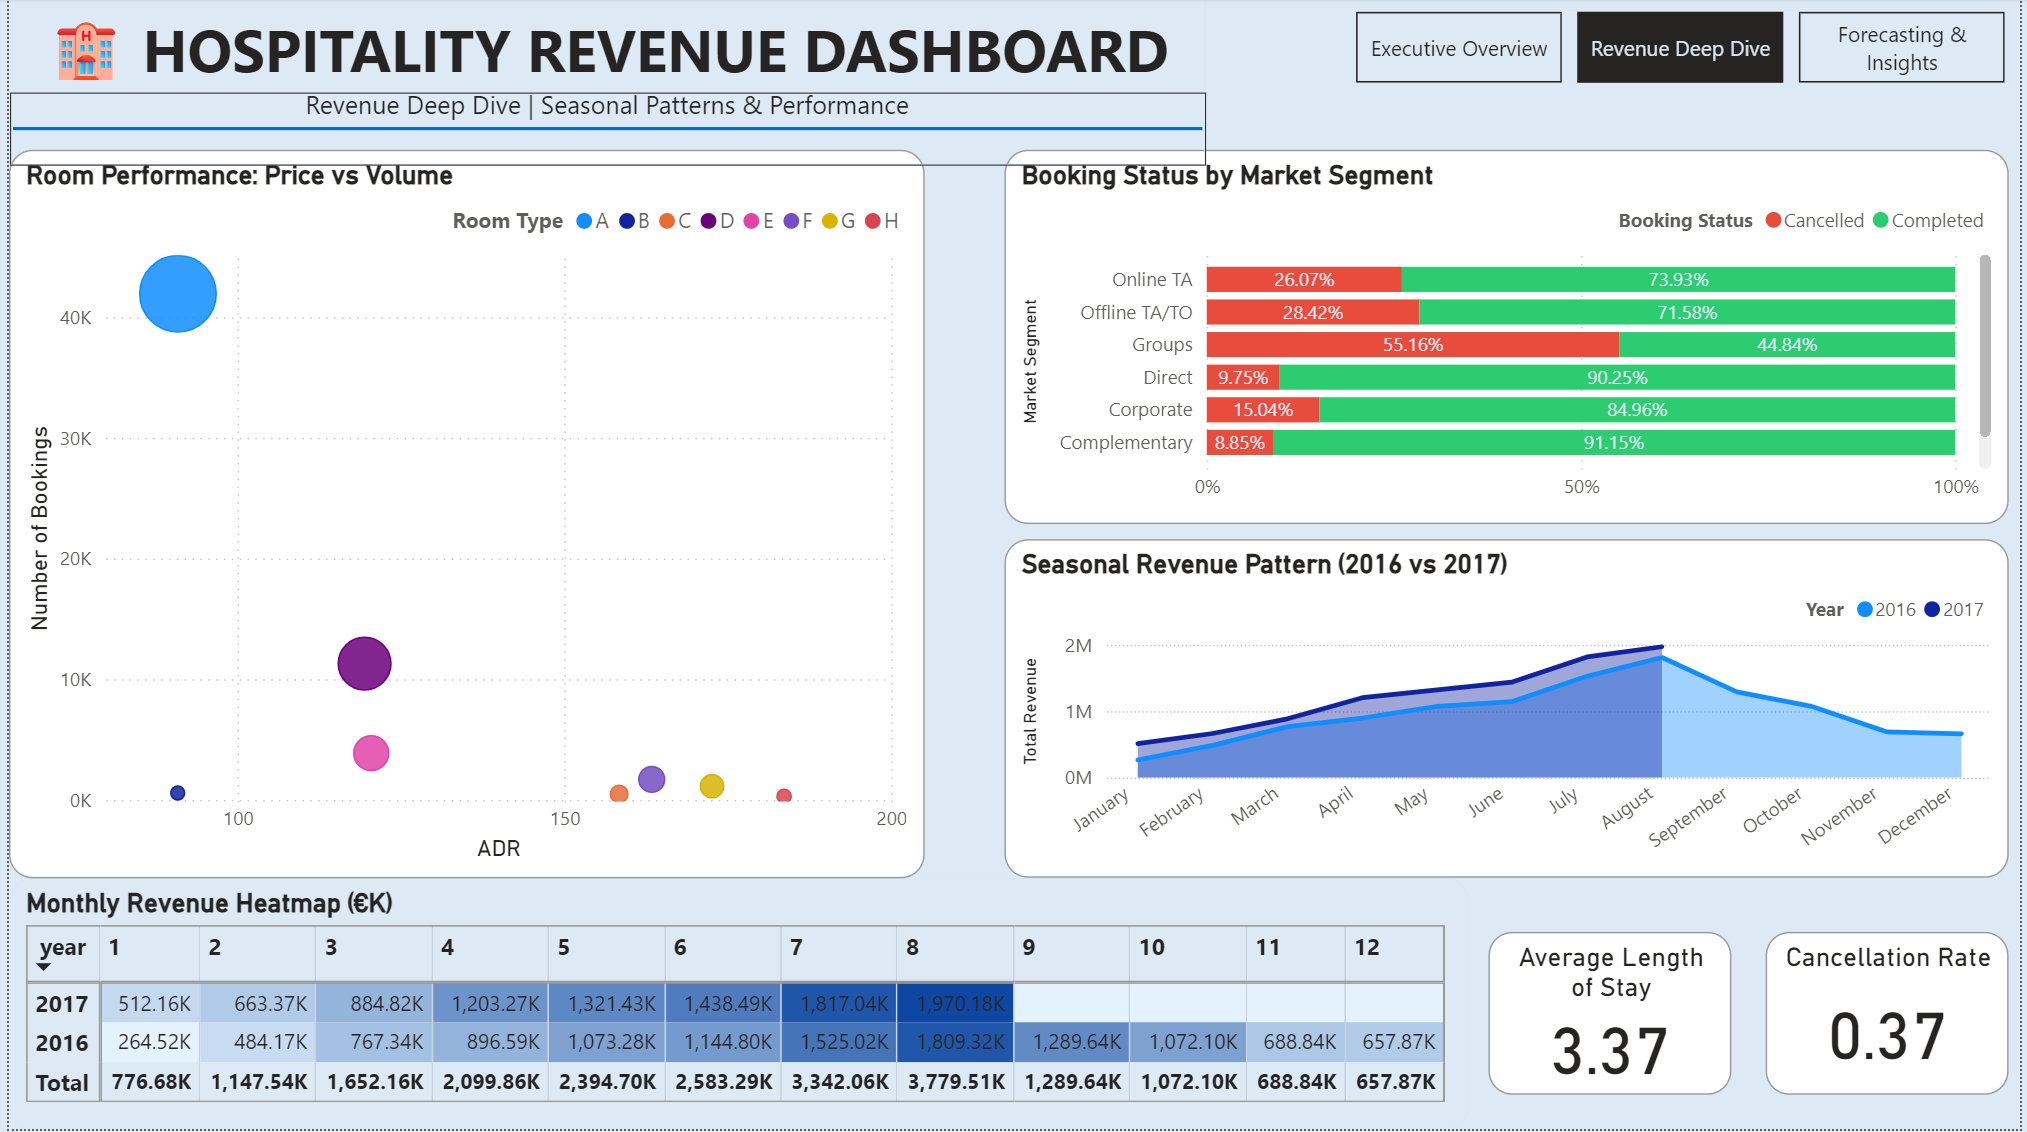

The dashboard page shown, as its layout file describes it:
{"tool":"powerbi","page":{"name":"Revenue Deep Dive","canvas":[1280,720],"ordinal":1},"visuals":[{"type":"textbox","box":[0,0,761.7,87.5],"z":0},{"type":"pivotTable","title":"Monthly Revenue Heatmap (€K)","fields":{"Rows":["powerbi_monthly.year"],"Values":["Sum(powerbi_monthly.revenue)"],"Columns":["powerbi_monthly.month","powerbi_monthly.month_name"]},"box":[0,560,929,159.6],"z":1000},{"type":"areaChart","title":"Seasonal Revenue Pattern (2016 vs 2017)","fields":{"Category":["powerbi_monthly.month_name"],"Y":["Sum(powerbi_monthly.revenue)"],"Series":["powerbi_monthly.year"]},"box":[633.6,344.4,639.2,215.6],"z":2000},{"type":"hundredPercentStackedBarChart","title":"Booking Status by Market Segment","fields":{"Category":["powerbi_bookings.market_segment"],"Y":["Sum(powerbi_bookings.booking_key)"],"Series":["powerbi_bookings.booking_status"]},"box":[633.6,96.6,639.2,238],"z":3000},{"type":"card","title":"Cancellation Rate","fields":{"Values":["_measures.Cancellation Rate"]},"box":[1118,594.4,154.7,103.6],"z":4000},{"type":"card","title":"Average Length of Stay","fields":{"Values":["_measures.Avg Length of Stay"]},"box":[941.6,594.4,154.7,103.6],"z":5000},{"type":"scatterChart","title":"Room Performance: Price vs Volume","fields":{"Y":["powerbi_rooms.bookings"],"X":["powerbi_rooms.avg_adr"],"Series":["powerbi_rooms.room_type"],"Size":["Sum(powerbi_rooms.revenue)"]},"box":[0,96.6,582.4,463.4],"z":6000},{"type":"pageNavigator","box":[855.5,7,417.2,49.7],"z":7000},{"type":"shape","box":[0.7,60.2,761,46.2],"z":8000}]}

Visuals, with their boxes in screenshot pixels (x1, y1, x2, y2), scaled from the page's 1280x720 canvas onto the 2027x1132 screenshot:
textbox: rect(0, 0, 1206, 138)
"Monthly Revenue Heatmap (€K)" pivotTable: rect(0, 880, 1471, 1131)
"Seasonal Revenue Pattern (2016 vs 2017)" areaChart: rect(1003, 541, 2016, 880)
"Booking Status by Market Segment" hundredPercentStackedBarChart: rect(1003, 152, 2016, 526)
"Cancellation Rate" card: rect(1770, 935, 2015, 1097)
"Average Length of Stay" card: rect(1491, 935, 1736, 1097)
"Room Performance: Price vs Volume" scatterChart: rect(0, 152, 922, 880)
pageNavigator: rect(1355, 11, 2015, 89)
shape: rect(1, 95, 1206, 167)
